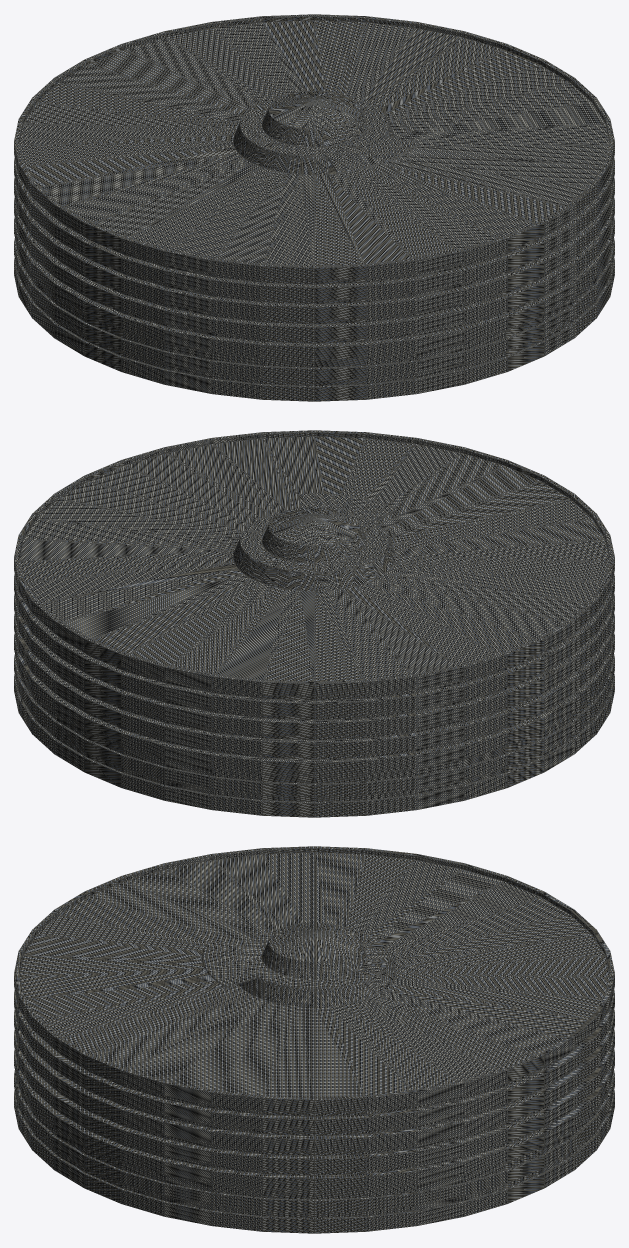
The model's file is PARKING_REDO.gltf.
The picture shows the model from 3 angles, top to bottom: view 1: azimuth 30°, elevation 25°; view 2: azimuth 150°, elevation 25°; view 3: azimuth 270°, elevation 25°; orthographic projection.
Visible parts, largest first — view 1: node1; view 2: node1; view 3: node1.
Boxes of the visible parts, x1,y1,x2,y2 form: node1: [14, 14, 614, 401]; node1: [14, 430, 614, 817]; node1: [14, 846, 614, 1233].
Bounding box in the file's own units: 96.56 × 30.96 × 96.56.
